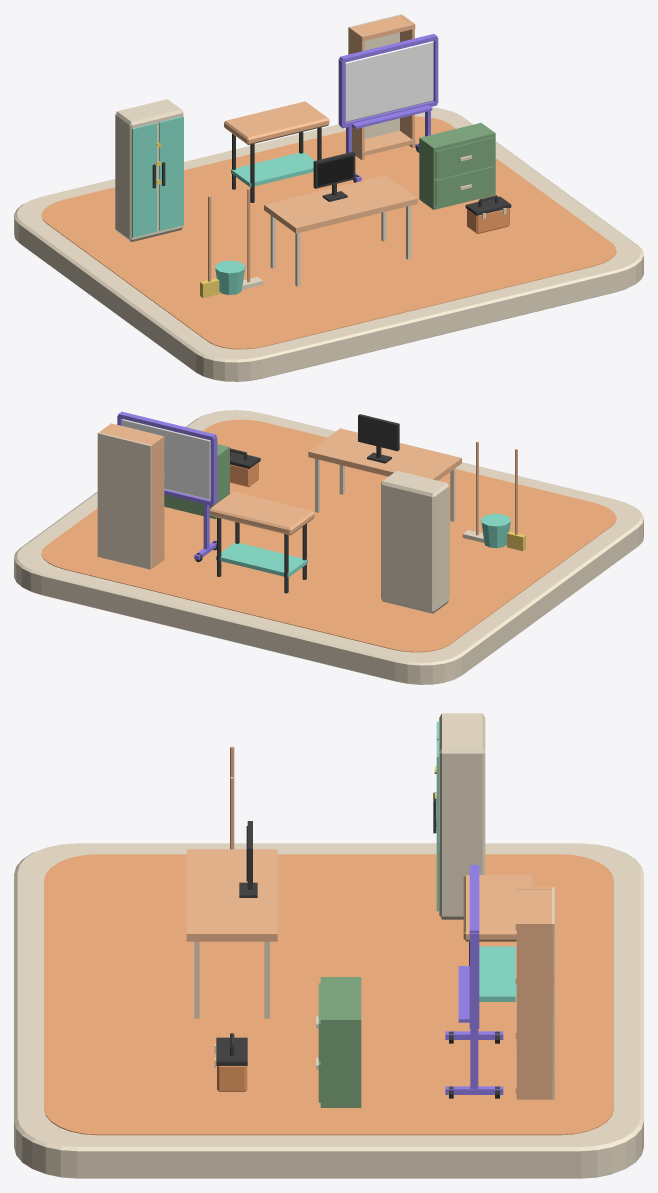
3 views of the same model, one above another, from view 1: azimuth 30°, elevation 25°; view 2: azimuth 150°, elevation 25°; view 3: azimuth 270°, elevation 25° (orthographic). The views are drawn at different scales.
Parts seen in each view (by area): view 1: COM-02 Floor Surface, COM-01 Rounded Base Direct, Top, Cabinet, Writing surface, Equipment case, Door, Worktop, Door.001, Lower shelf, Frame, Back (+9 smaller); view 2: COM-02 Floor Surface, COM-01 Rounded Base Direct, Equipment case, Back, Top, Writing surface, Worktop, Lower shelf, Side, Frame, Cabinet, Bucket (+4 smaller); view 3: COM-02 Floor Surface, COM-01 Rounded Base Direct, Top, Equipment case, Side.001, Cabinet, Worktop, Lower shelf, Shelf.003, Frame upright.001, Lid, Box (+3 smaller).
Boxes of the visible parts, box(x1,y1,x2,y2) form: COM-02 Floor Surface: box(41, 116, 616, 349); COM-01 Rounded Base Direct: box(14, 107, 643, 381); Top: box(264, 175, 417, 286); Cabinet: box(419, 122, 495, 209); Writing surface: box(345, 41, 433, 122); Equipment case: box(115, 99, 183, 241); Door: box(132, 123, 156, 237); Worktop: box(224, 101, 329, 144); Door.001: box(159, 116, 183, 230); Lower shelf: box(231, 152, 315, 187); Frame: box(313, 151, 355, 201); Back: box(348, 14, 402, 138); COM-02 Floor Surface: box(41, 419, 616, 652); COM-01 Rounded Base Direct: box(14, 410, 643, 684); Equipment case: box(381, 470, 448, 613); Back: box(97, 432, 151, 569); Top: box(308, 428, 461, 521); Writing surface: box(122, 419, 210, 500); Worktop: box(209, 491, 314, 535); Lower shelf: box(216, 542, 307, 577); Side: box(149, 435, 164, 568); Frame: box(358, 414, 399, 463); Cabinet: box(164, 444, 229, 519); Bucket: box(481, 513, 510, 548); COM-02 Floor Surface: box(44, 854, 613, 1135); COM-01 Rounded Base Direct: box(14, 843, 643, 1178); Top: box(186, 849, 277, 1018); Equipment case: box(439, 713, 485, 919); Side.001: box(516, 922, 553, 1099); Cabinet: box(316, 977, 361, 1107); Worktop: box(463, 875, 533, 941); Lower shelf: box(479, 946, 516, 1001); Shelf.003: box(515, 887, 554, 930); Frame upright.001: box(469, 933, 479, 1026); Lid: box(216, 1037, 247, 1065); Box: box(217, 1066, 247, 1091).
Size of the model in its own units: 6 by 1.9 by 5.2.
1 material, 1 textured.
